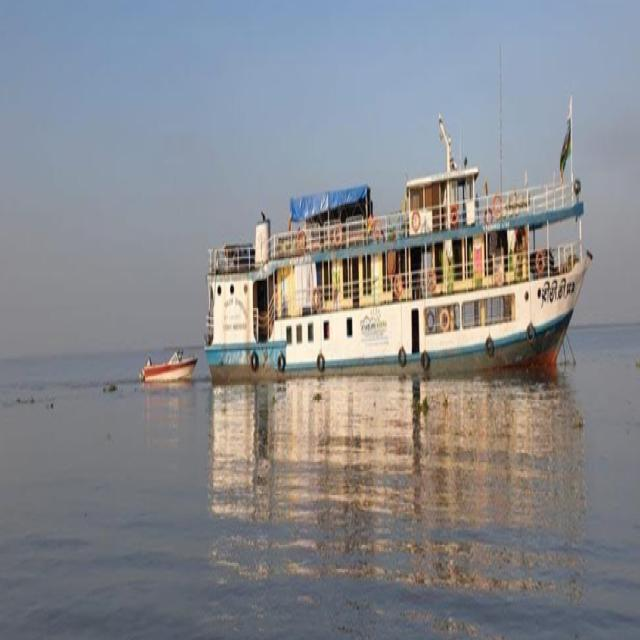fishing boat: (212, 136, 584, 388)
houseboat: (140, 323, 199, 392)
